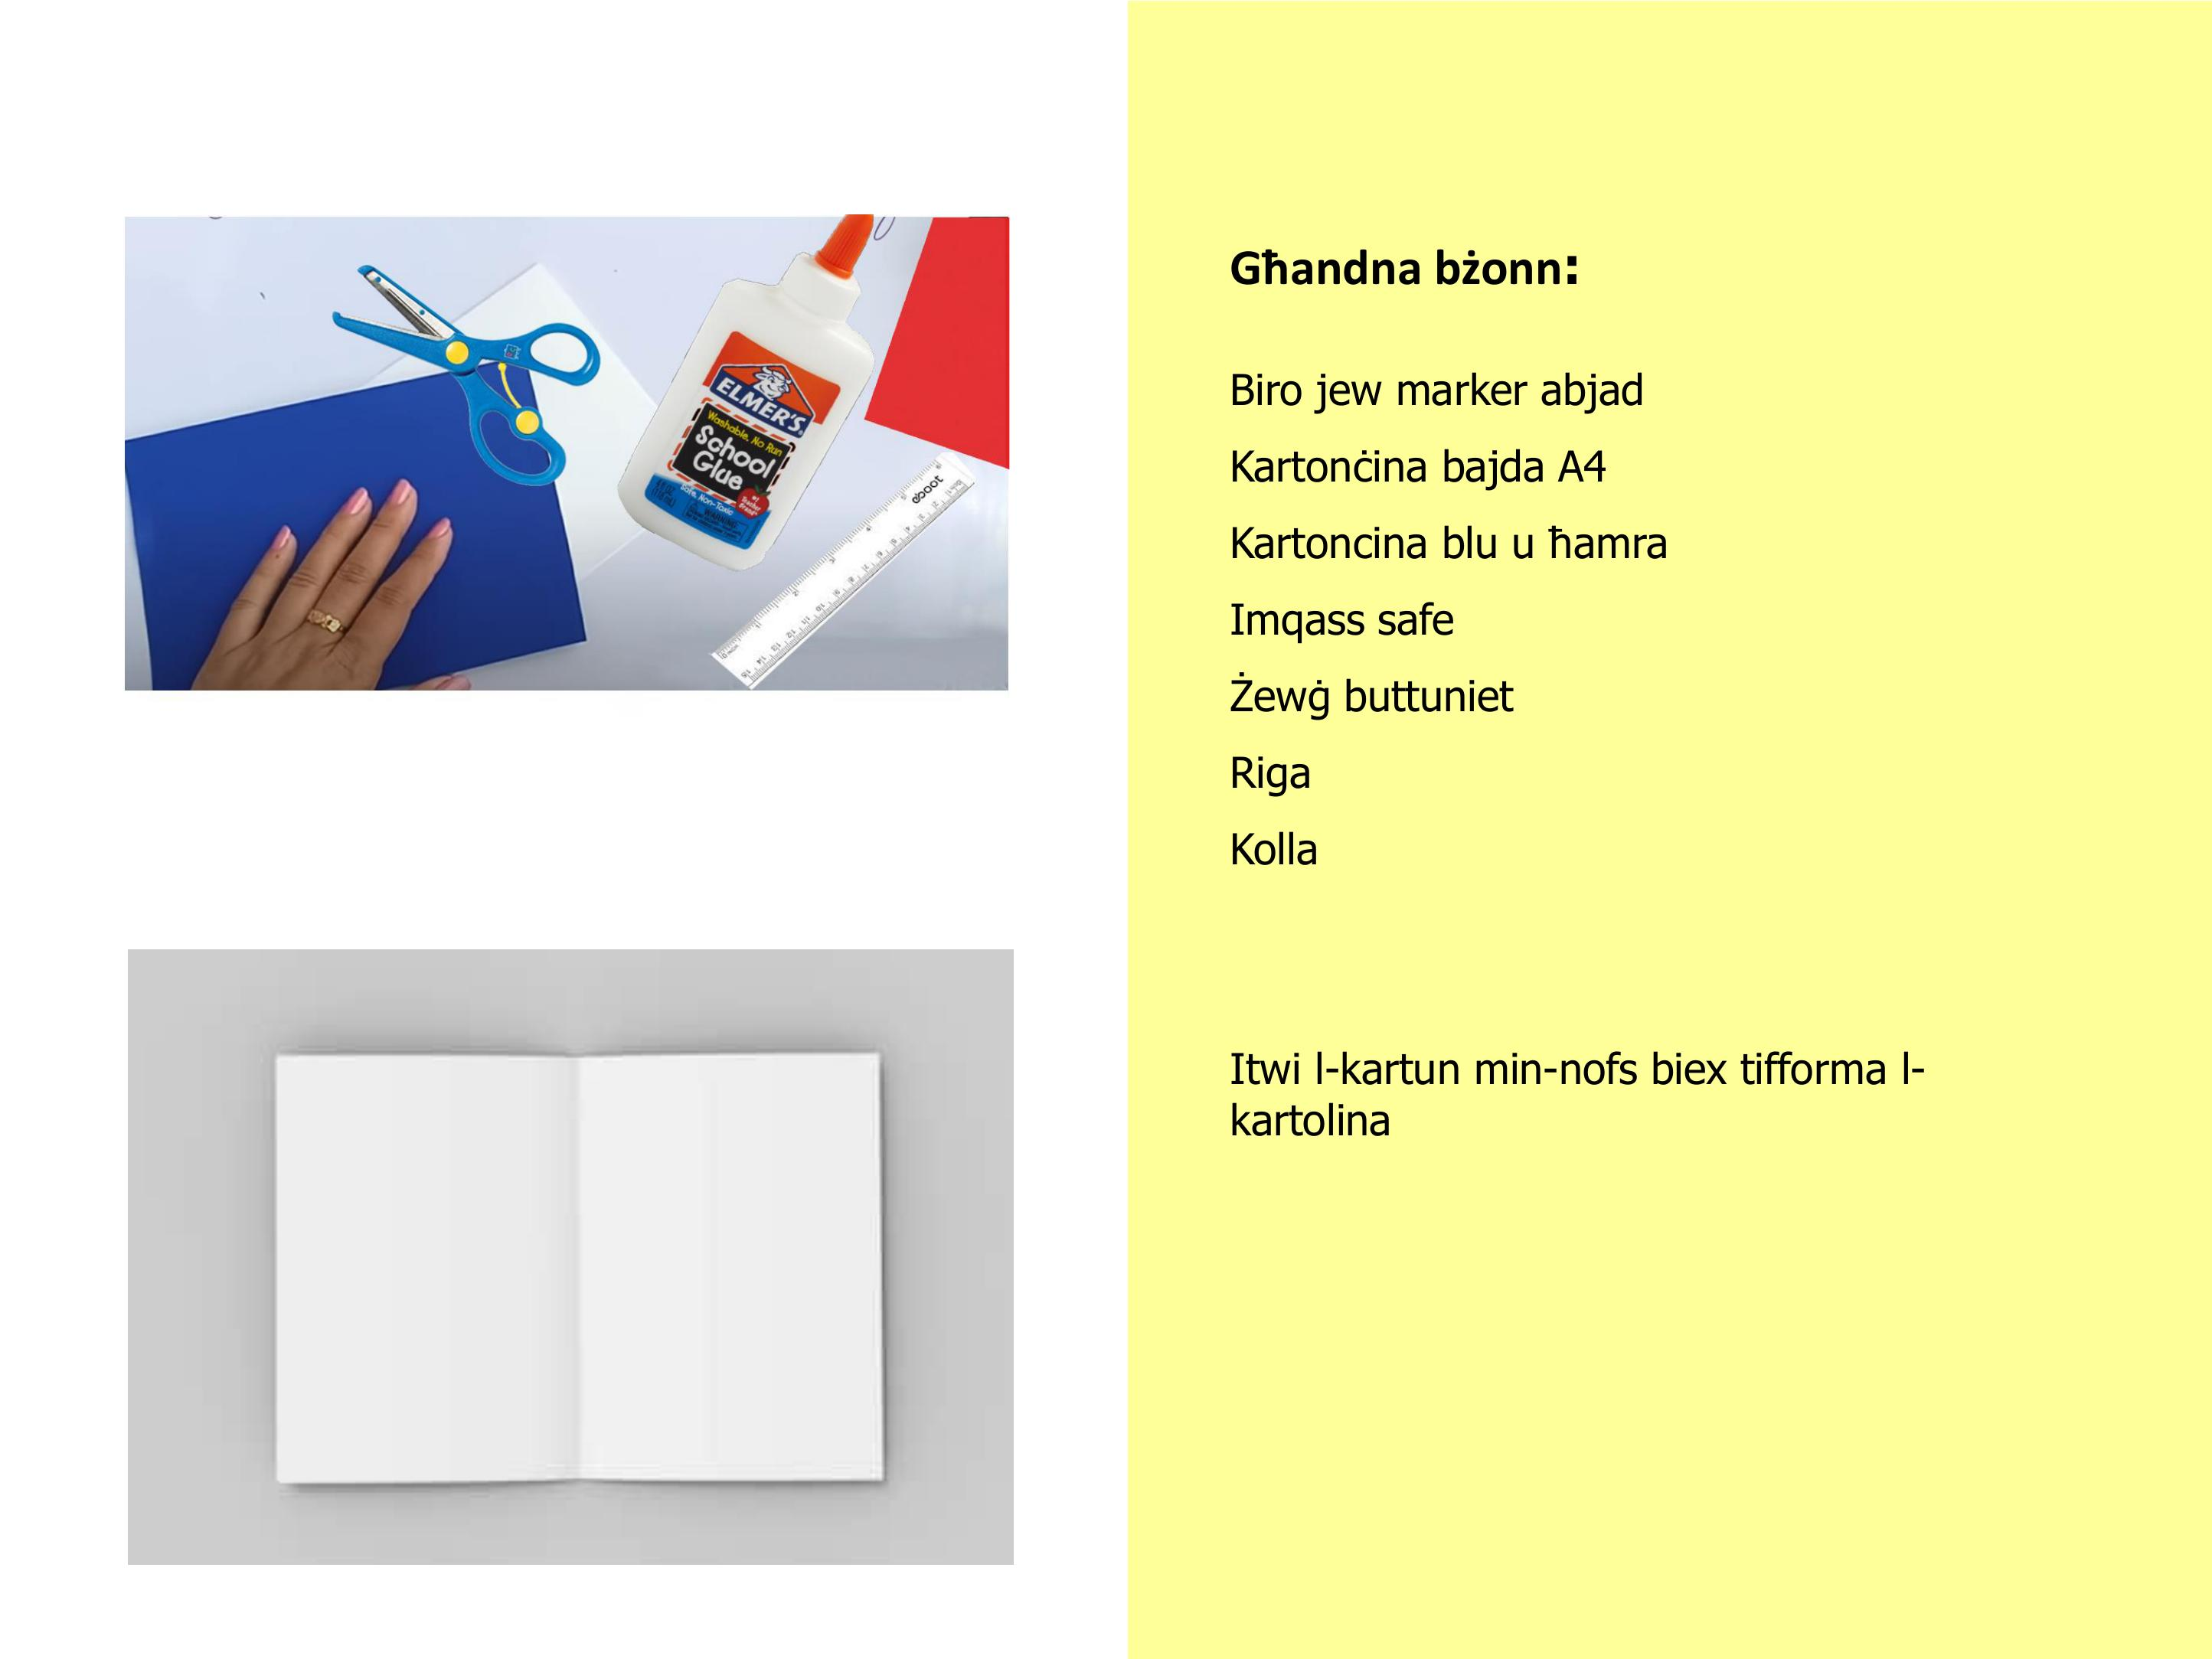text: (1185, 227, 1982, 1180)
